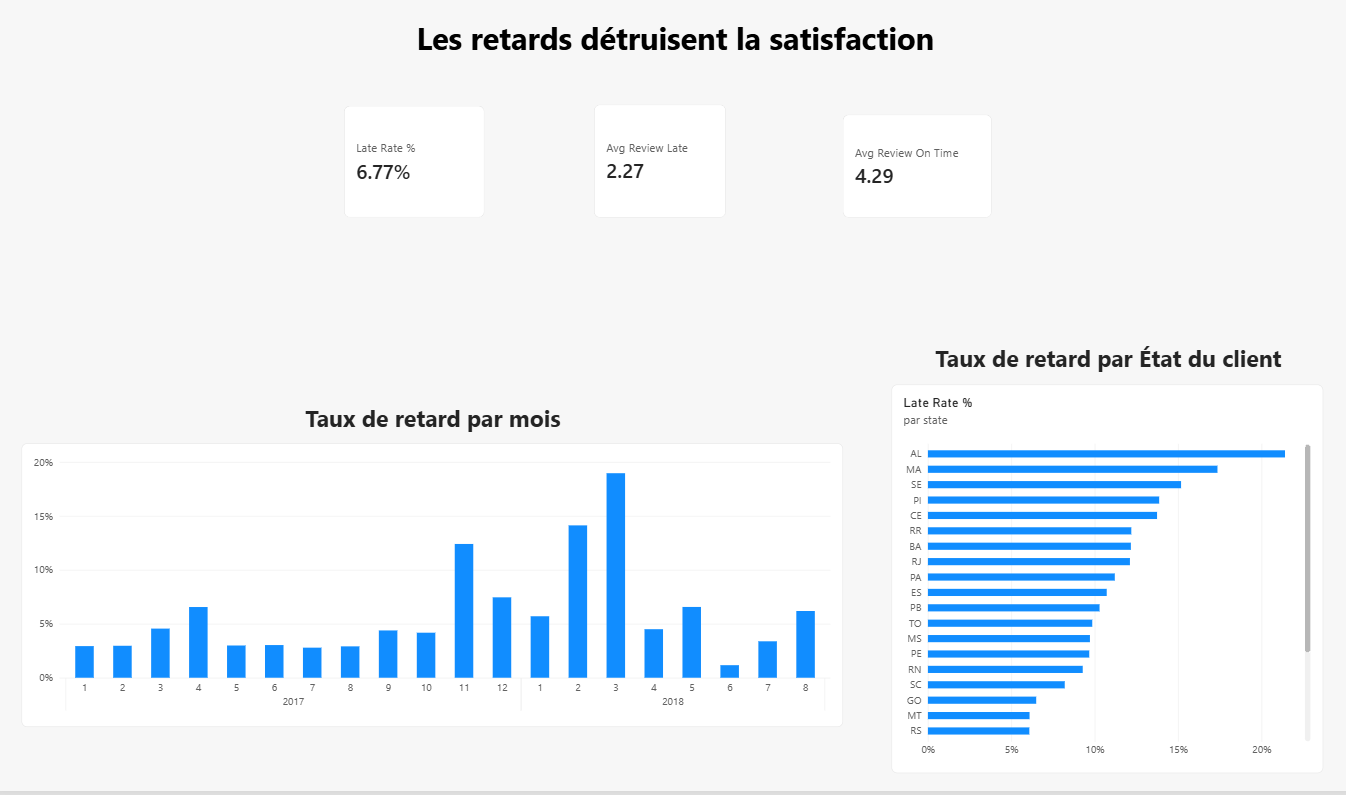

This screenshot's page, from the dashboard's own definition file:
{"tool":"powerbi","page":{"name":"Page 1","canvas":[1920,1080],"ordinal":0},"visuals":[{"type":"textbox","box":[499.5,0,917.4,281],"z":0},{"type":"cardVisual","fields":{"Data":["fact_orders.Late Rate %"]},"box":[496,124,196,156],"z":1},{"type":"cardVisual","fields":{"Data":["fact_orders.Avg Review Late"]},"box":[844,122,184,158],"z":2},{"type":"cardVisual","fields":{"Data":["fact_orders.Avg Review On Time"]},"box":[1192,136,208,144],"z":3},{"type":"clusteredColumnChart","fields":{"Category":["dim_date.year","dim_date.month"],"Y":["fact_orders.Late Rate %"]},"box":[46,594,1146,396],"z":4},{"type":"textbox","box":[366,538,506,56],"z":5},{"type":"clusteredBarChart","fields":{"Category":["dim_customer.state"],"Y":["fact_orders.Late Rate %"]},"box":[1260,512,602,542],"z":6},{"type":"textbox","box":[1214,454,696,86],"z":7}]}

Visuals, with their boxes on the page's 1920x1080 design canvas (x1, y1, x2, y2). These are canvas units, not pixel positions in the 1346x795 screenshot, which may show the page scaled, cropped or inside an application window:
textbox: [500, 0, 1417, 281]
cardVisual - fact_orders.Late Rate %: [496, 124, 692, 280]
cardVisual - fact_orders.Avg Review Late: [844, 122, 1028, 280]
cardVisual - fact_orders.Avg Review On Time: [1192, 136, 1400, 280]
clusteredColumnChart - dim_date.year x dim_date.month: [46, 594, 1192, 990]
textbox: [366, 538, 872, 594]
clusteredBarChart - dim_customer.state x fact_orders.Late Rate %: [1260, 512, 1862, 1054]
textbox: [1214, 454, 1910, 540]
